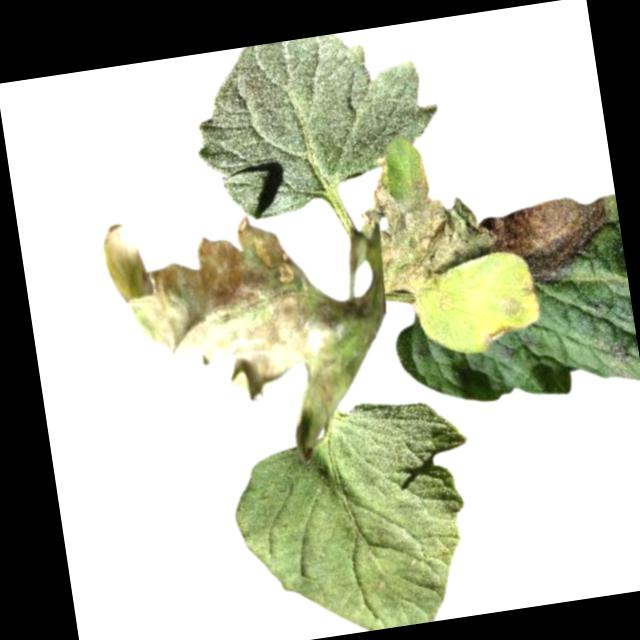Late_blight: (64, 187, 393, 494), (353, 144, 504, 302), (477, 190, 617, 296), (479, 321, 511, 347)
healthy: (221, 390, 493, 640), (184, 21, 451, 226)
